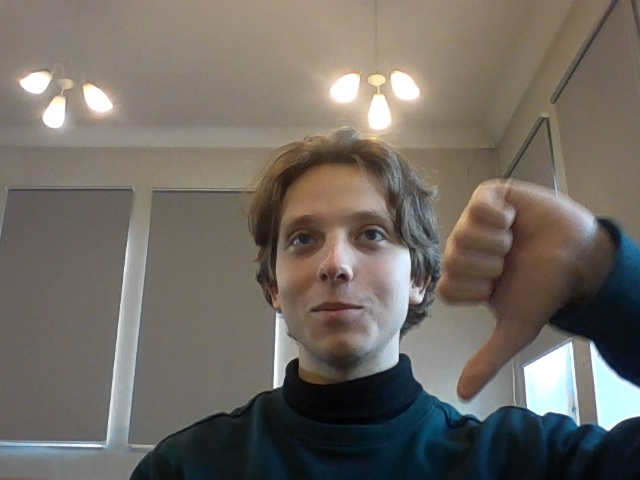no: (436, 170, 576, 401)
